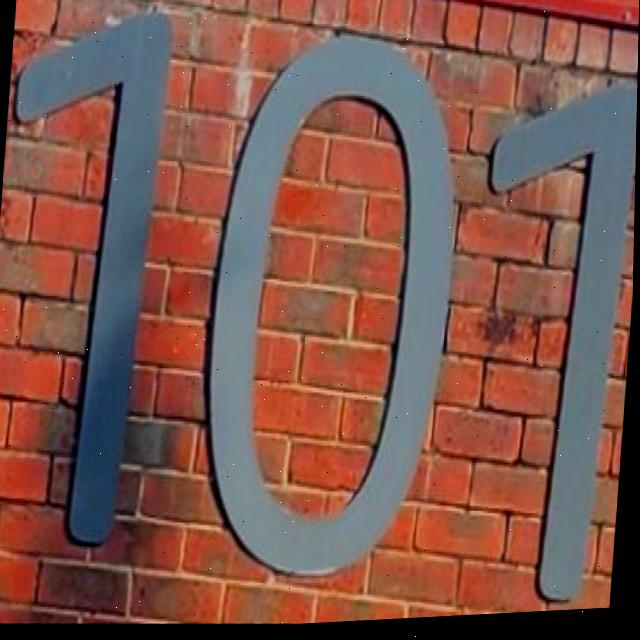character: (183, 14, 475, 597), (0, 0, 180, 574), (450, 66, 638, 615)
